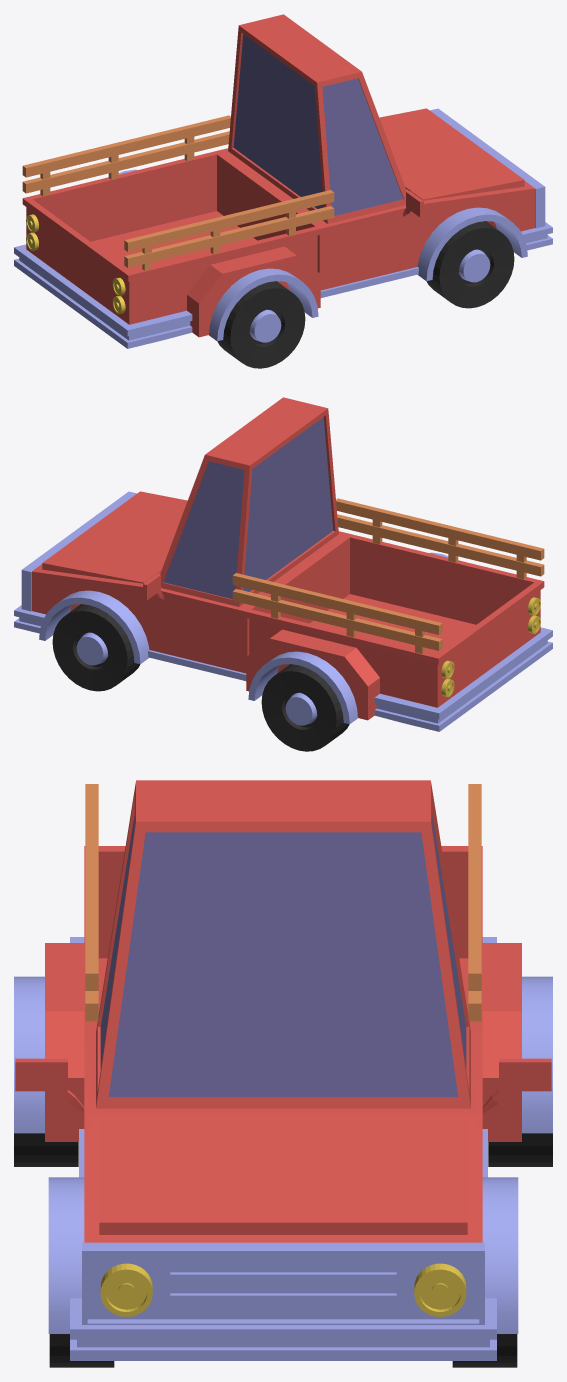
The model's file is Truck+Wheels.fbx.
3 views of the same model, one above another, from view 1: azimuth 30°, elevation 25°; view 2: azimuth 150°, elevation 25°; view 3: azimuth 270°, elevation 25° (orthographic). The views are drawn at different scales.
Parts seen in each view (by area): view 1: CarBody, Wheels Back.002, Wheels Front.002; view 2: CarBody, Wheels Back.001, Wheels Front.001; view 3: CarBody, Wheels Back.001, Wheels Back.002, Wheels Front.001, Wheels Front.002.
Part boxes in pixels (bbox=[...]): CarBody: bbox=[14, 14, 552, 348]; Wheels Back.002: bbox=[217, 281, 305, 368]; Wheels Front.002: bbox=[426, 221, 514, 308]; CarBody: bbox=[14, 397, 552, 731]; Wheels Back.001: bbox=[261, 664, 349, 751]; Wheels Front.001: bbox=[52, 604, 140, 691]; CarBody: bbox=[14, 780, 552, 1360]; Wheels Back.001: bbox=[488, 1133, 552, 1166]; Wheels Back.002: bbox=[14, 1133, 78, 1166]; Wheels Front.001: bbox=[452, 1334, 517, 1367]; Wheels Front.002: bbox=[49, 1334, 114, 1367].
Size of the model in its own units: 587 by 318 by 342.
